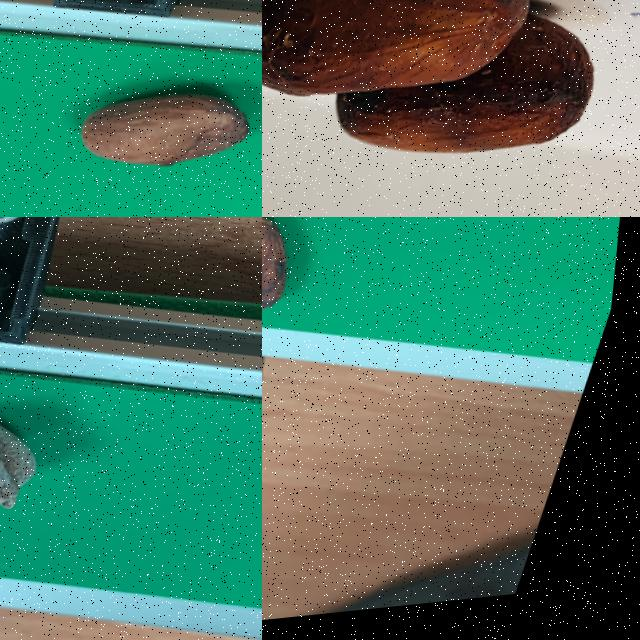Agglomerated_cocoabeans: (262, 0, 639, 216), (0, 324, 165, 588)
Fine_cocoabeans: (0, 0, 261, 216), (262, 217, 387, 373)
